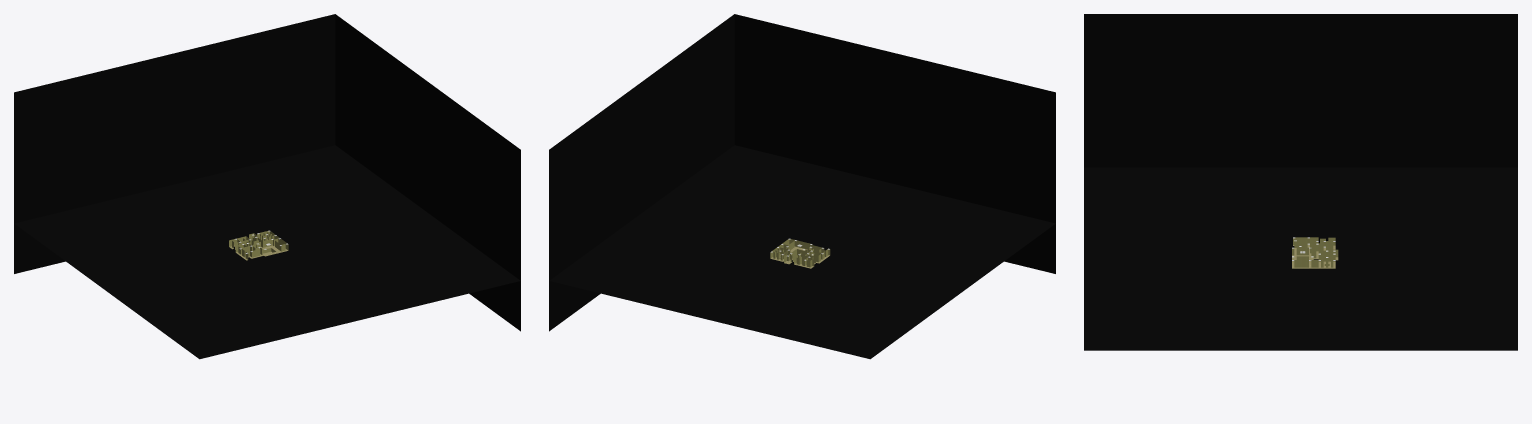
Rendered from backrooms.glb.
3 views of the same model, side by side, from view 1: azimuth 30°, elevation 25°; view 2: azimuth 150°, elevation 25°; view 3: azimuth 270°, elevation 25° (orthographic). The views are drawn at different scales.
Visible parts, largest first — view 1: Void, Cube; view 2: Void, Cube; view 3: Void, Cube.
Boxes of the visible parts, x1=… form: Void: x1=14, y1=14, x2=520, y2=359; Cube: x1=229, y1=231, x2=288, y2=260; Void: x1=549, y1=14, x2=1055, y2=359; Cube: x1=770, y1=239, x2=830, y2=268; Void: x1=1084, y1=14, x2=1517, y2=350; Cube: x1=1292, y1=237, x2=1338, y2=268.
Size of the model in its own units: 356 by 192 by 356.
5 materials, 3 textured.
